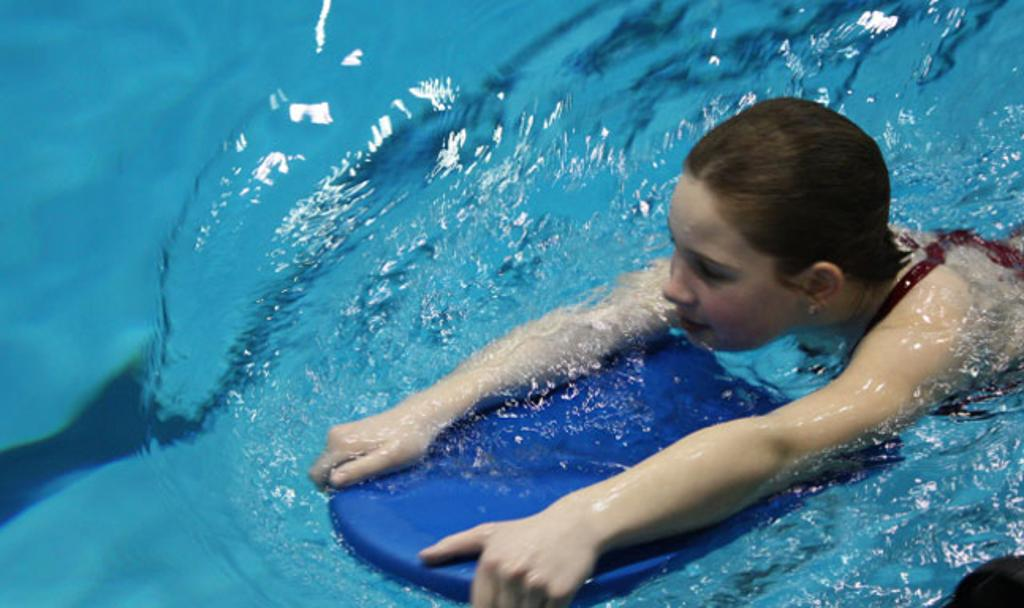face: (662, 208, 760, 350)
